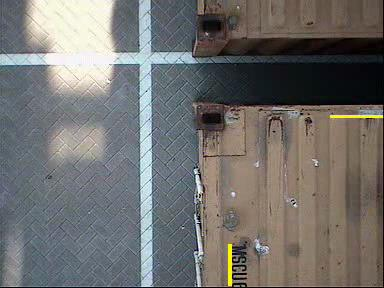groundmarker_2: (68, 62, 173, 155)
